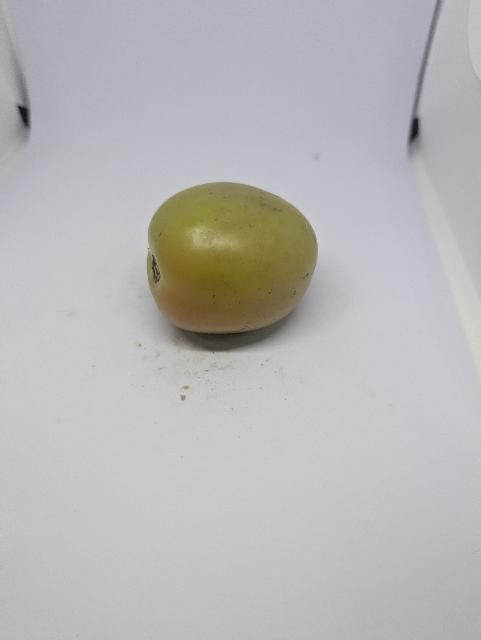breaker: (143, 179, 319, 339)
